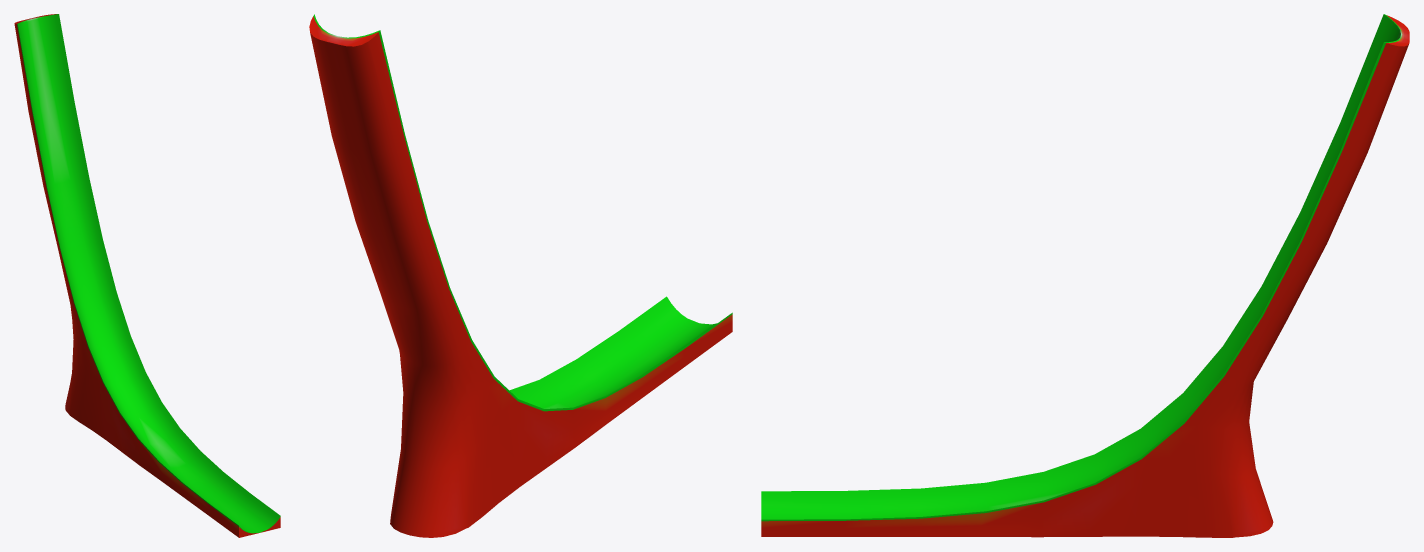
File: Rampa.fbx
3 views of the same model, side by side, from view 1: azimuth 30°, elevation 25°; view 2: azimuth 150°, elevation 25°; view 3: azimuth 270°, elevation 25° (orthographic). The views are drawn at different scales.
Parts seen in each view (by area): view 1: BézierCurve; view 2: BézierCurve; view 3: BézierCurve.
Part boxes in pixels (x1,y1,x2,y2): BézierCurve: (14,14,280,537); BézierCurve: (309,14,732,537); BézierCurve: (761,14,1409,537).
Bounding box in the file's own units: 20 × 151 × 179.
